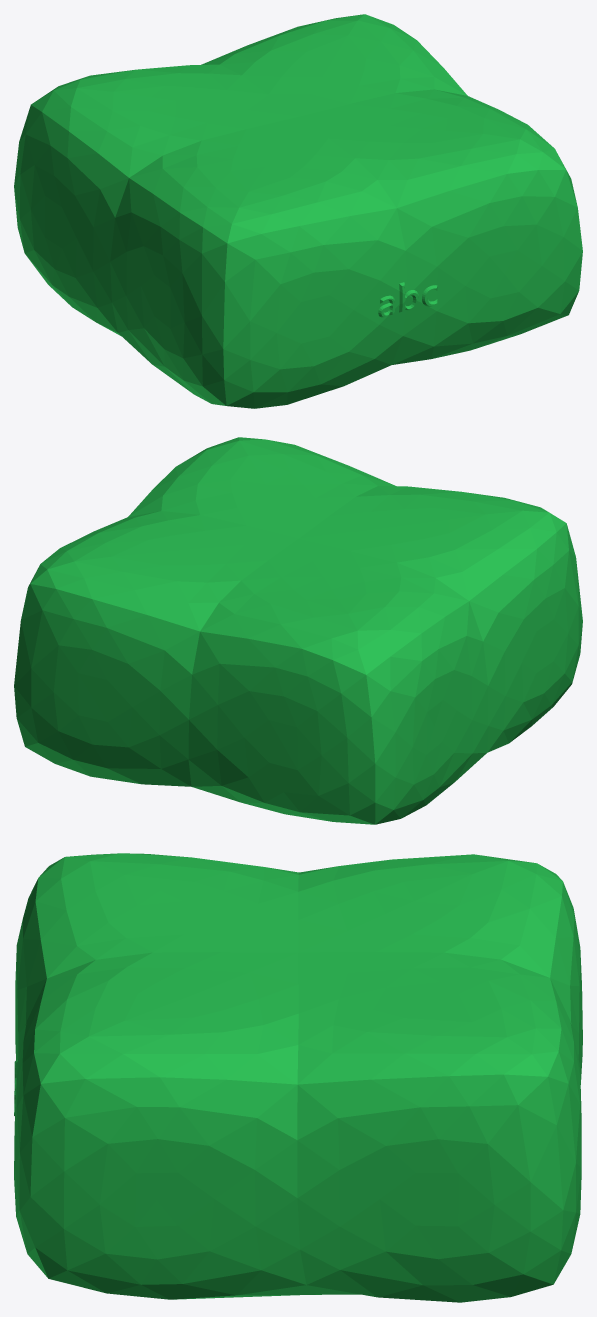
File: boxes.gltf
3 views of the same model, one above another, from view 1: azimuth 30°, elevation 25°; view 2: azimuth 150°, elevation 25°; view 3: azimuth 270°, elevation 25° (orthographic). The views are drawn at different scales.
Size of the model in its own units: 0.0411 by 0.0215 by 0.0413.
